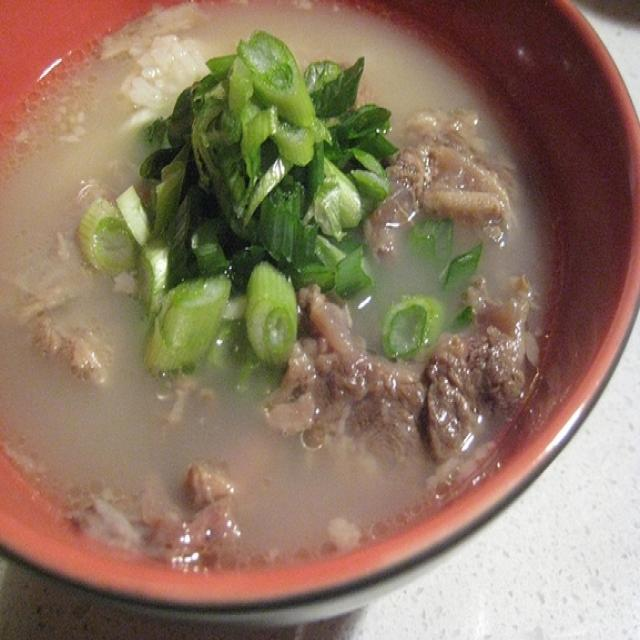汤锅炖物: (21, 28, 596, 585)
